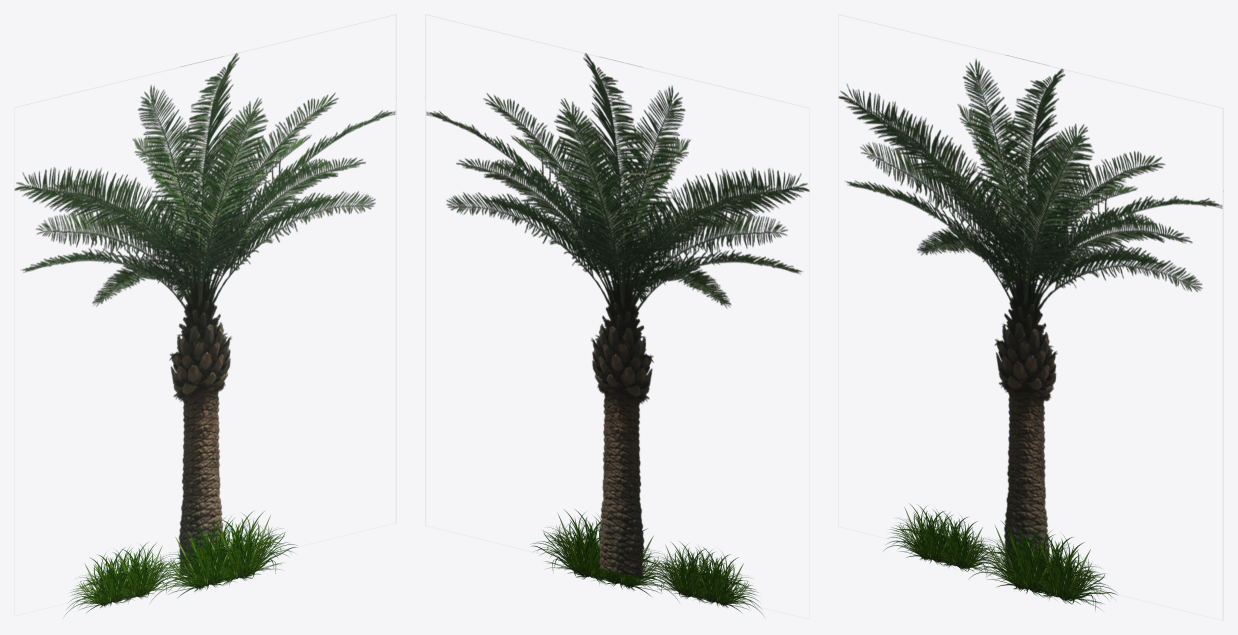
3 views of the same model, side by side, from view 1: azimuth 30°, elevation 25°; view 2: azimuth 150°, elevation 25°; view 3: azimuth 330°, elevation 25° (orthographic).
Visible parts, largest first — view 1: Object_2, Object_3; view 2: Object_2, Object_3; view 3: Object_2, Object_3.
Boxes of the visible parts, <box> form: Object_2: <box>14,53,396,575</box>; Object_3: <box>64,511,297,616</box>; Object_2: <box>426,53,809,578</box>; Object_3: <box>531,509,763,615</box>; Object_2: <box>838,55,1223,567</box>; Object_3: <box>884,503,1116,610</box>.
Size of the model in its own units: 236 by 313 by 3.23.
Materials: 2 (2 with a texture image).
